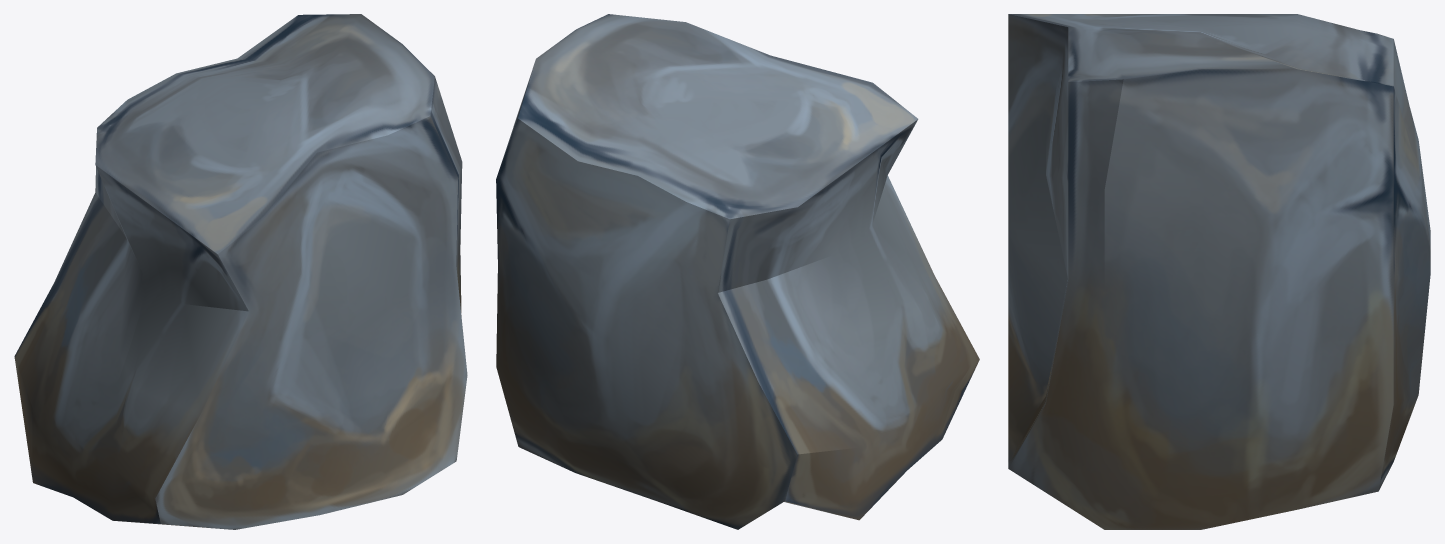
The model's file is SM_rock4.fbx.
The picture shows the model from 3 angles, left to right: view 1: azimuth 30°, elevation 25°; view 2: azimuth 150°, elevation 25°; view 3: azimuth 270°, elevation 25°; orthographic projection. The views are drawn at different scales.
Parts seen in each view (by area): view 1: rock4; view 2: rock4; view 3: rock4.
Part boxes in pixels (bbox=[...]): rock4: bbox=[14, 14, 467, 529]; rock4: bbox=[496, 14, 979, 529]; rock4: bbox=[1008, 14, 1430, 529].
Size of the model in its own units: 127 by 137 by 112.
